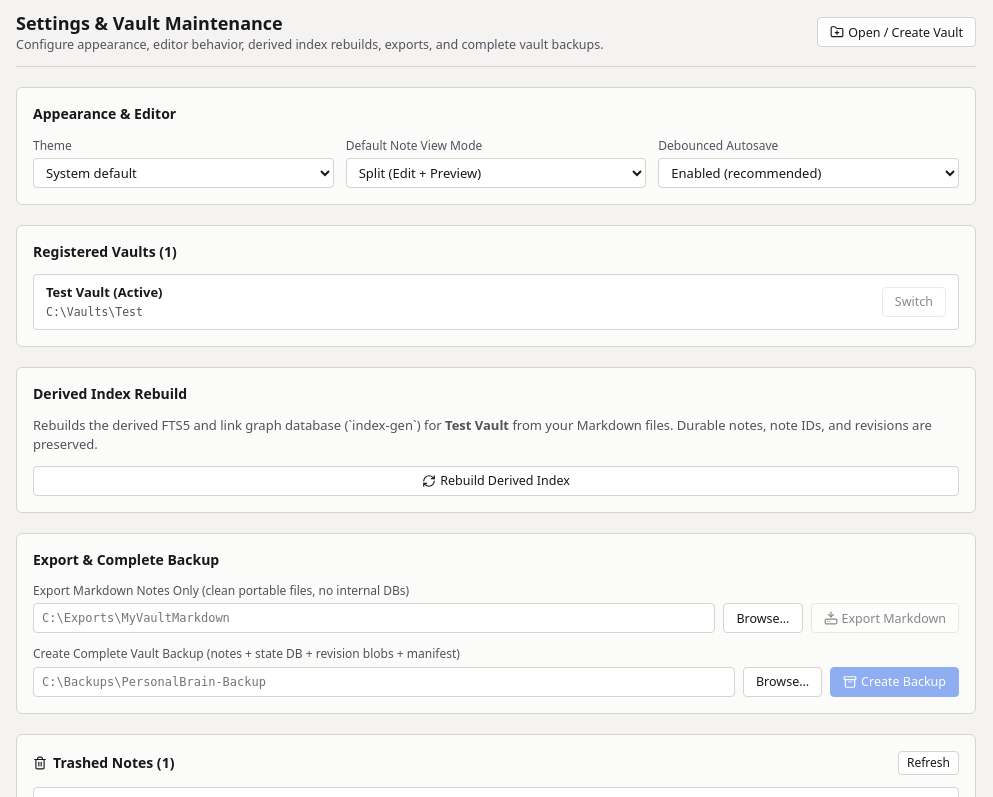
Test case: SettingsView maintenance, backup/restore, trash, and preferences › invokes confirmed Rebuild Index, Export, Backup, Restore Backup, and Trashed Note recovery
Later steps or results of the test are not shown.
Select "Dark" in the dropdown labelled "Theme": [183, 173] box [33,158,334,188]
Click the button "Rebuild Derived Index": [496, 481] box [33,466,959,496]
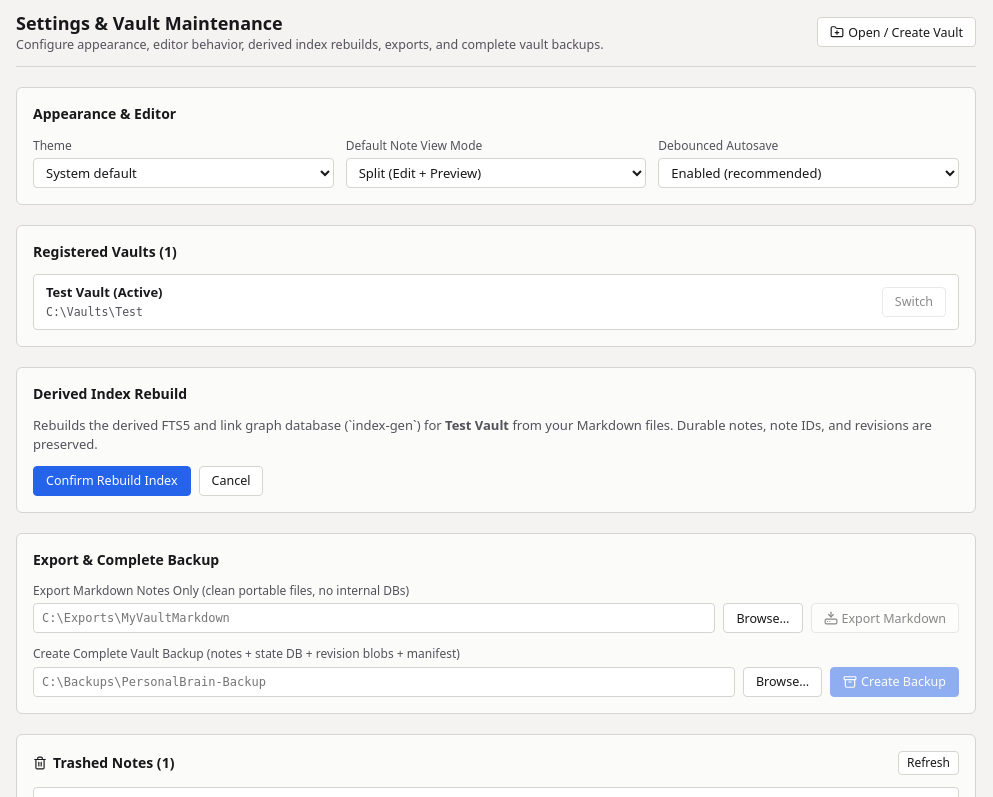
Click the button "Confirm Rebuild Index": [112, 481] box [33,466,190,496]
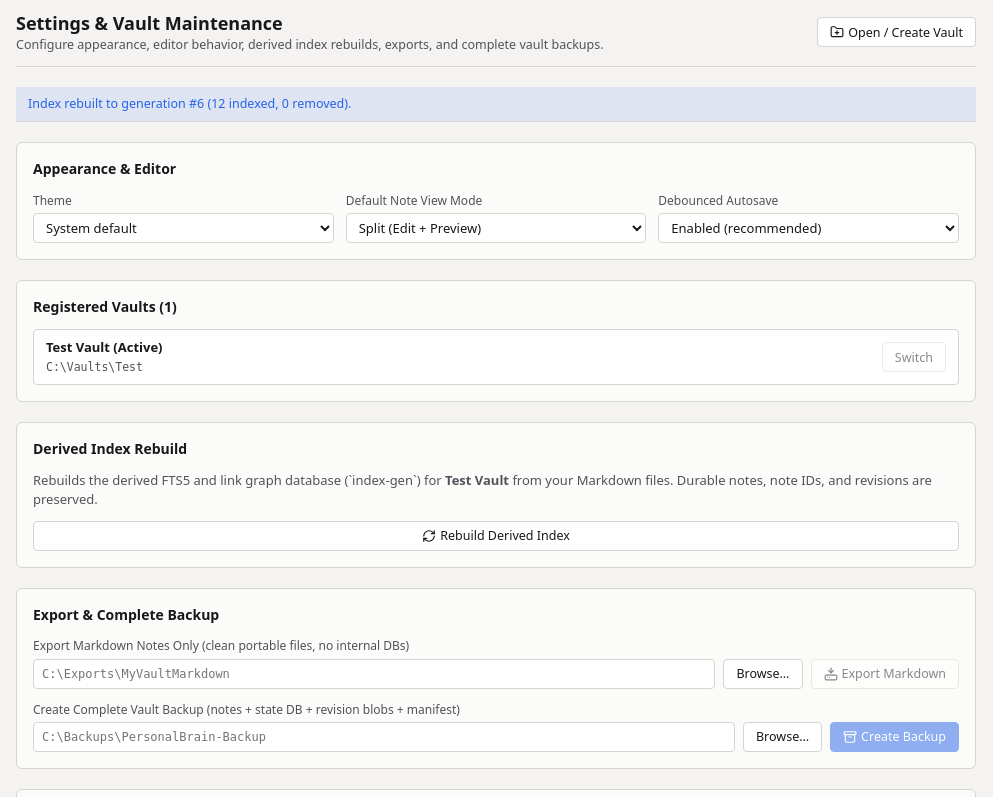
Result: the text "Index rebuilt to generation #6 (12 indexed, 0 removed)." is shown at [28,95,351,113]
